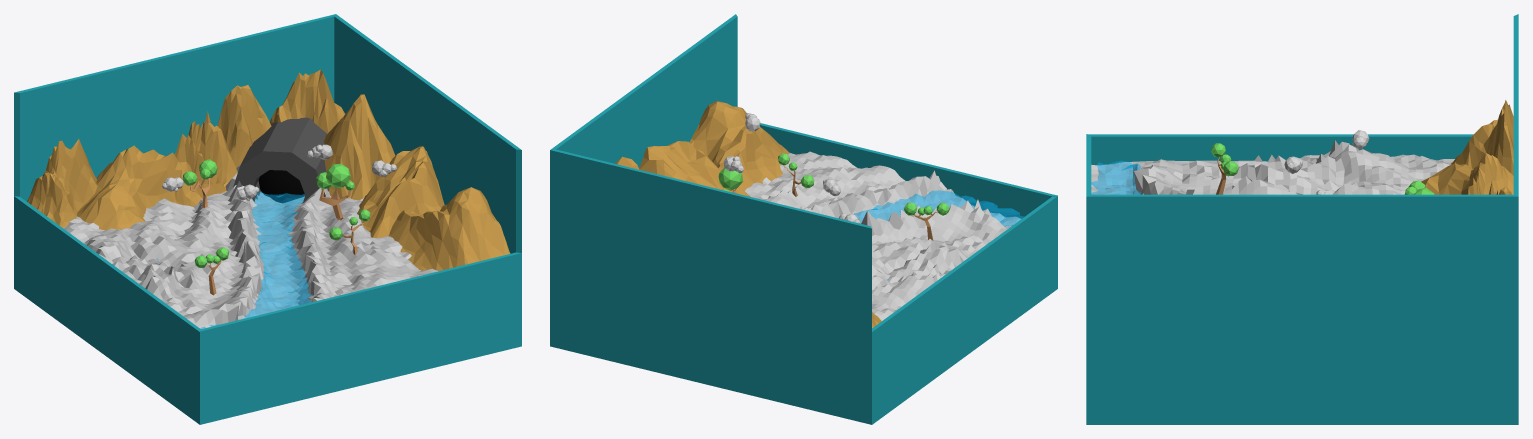
The model's file is landscape.fbx.
3 renders of one model, left to right at view 1: azimuth 30°, elevation 25°; view 2: azimuth 150°, elevation 25°; view 3: azimuth 270°, elevation 25°, orthographic. The views are drawn at different scales.
Parts seen in each view (by area): view 1: wadah, Plane, Landscape_5, Landscape_1, Null, Landscape_6, terowongan, Landscape_5_2, Landscape_3, Landscape_2, Landscape, Landscape_4 (+2 smaller); view 2: wadah, Plane, Landscape_5, Landscape_6, Null; view 3: wadah, Plane, Landscape_1, Landscape_3, Null.
Boxes of the visible parts, x1,y1,x2,y2 form: wadah: [14, 14, 521, 424]; Plane: [63, 165, 438, 328]; Landscape_5: [388, 187, 510, 270]; Landscape_1: [77, 145, 181, 230]; Null: [156, 190, 312, 328]; Landscape_6: [357, 146, 444, 237]; terowongan: [233, 117, 329, 202]; Landscape_5_2: [323, 94, 395, 200]; Landscape_3: [27, 139, 97, 227]; Landscape_2: [174, 111, 237, 206]; Landscape: [217, 85, 271, 167]; Landscape_4: [270, 69, 345, 133]; wadah: [550, 14, 1057, 424]; Plane: [744, 151, 1020, 320]; Landscape_5: [689, 101, 789, 190]; Landscape_6: [639, 141, 750, 196]; Null: [854, 190, 1023, 280]; wadah: [1086, 14, 1518, 424]; Plane: [1091, 140, 1454, 194]; Landscape_1: [1421, 153, 1513, 194]; Landscape_3: [1451, 100, 1513, 175]; Null: [1091, 160, 1141, 194].
Size of the model in its own units: 5100 by 2971 by 5100.
